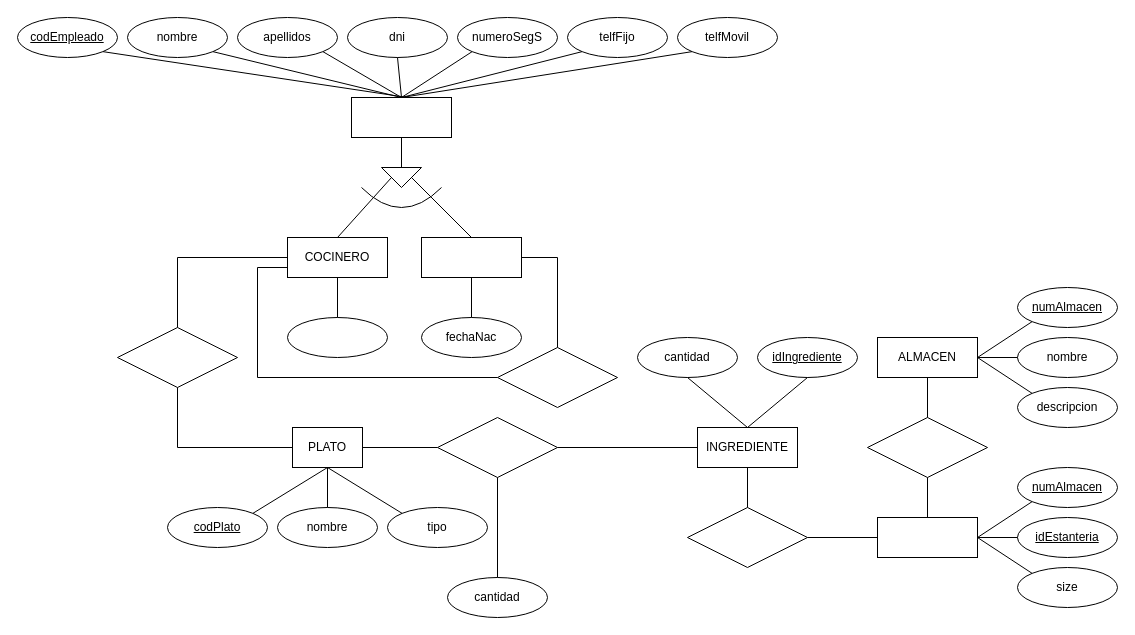
Some shapes in this 1135 by 635 pixel diagram are drawn without their labels. Here are the shapes that lost their labels. From the top down, the box of each, then its label:
(350, 96, 452, 138): EMPLEADO
(420, 236, 522, 278): PINCHE
(116, 326, 238, 388): Preparar
(286, 316, 388, 358): añosServ
(496, 346, 618, 408): Ayudar
(436, 416, 558, 478): Compone
(866, 416, 988, 478): Pertenece
(686, 506, 808, 568): Almacena
(876, 516, 978, 558): ESTANTERIA
